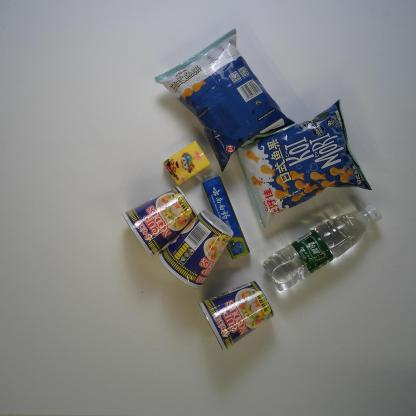Drink: (262, 204, 382, 292)
Instant Noodles: (158, 209, 234, 290), (121, 186, 198, 259), (198, 280, 275, 353)
Personal Hygiene: (201, 174, 251, 260)
Puffed Food: (154, 27, 298, 172), (236, 98, 373, 228)
Tissue: (162, 139, 212, 186)
